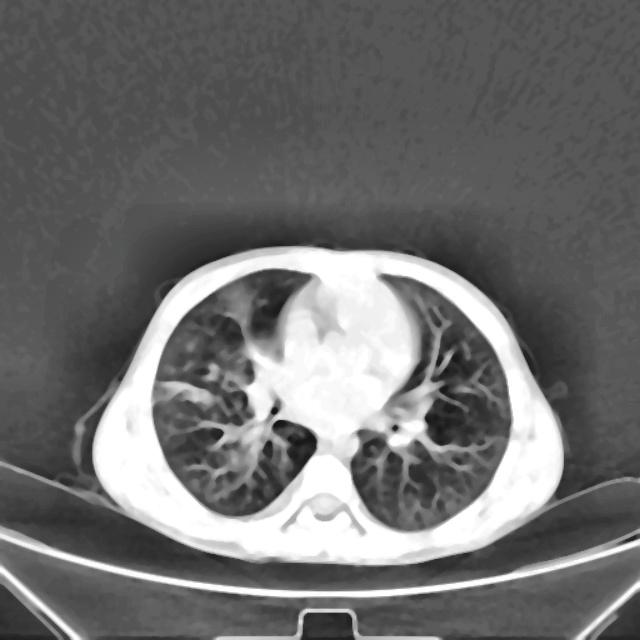covid: (85, 243, 566, 567)
